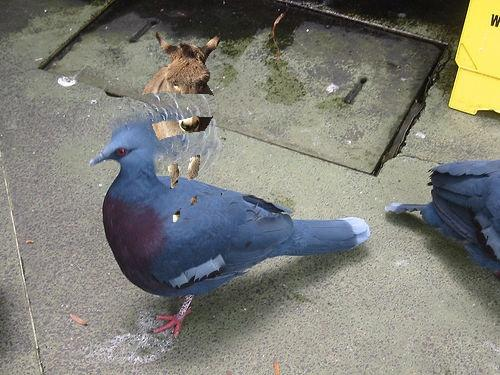tampered: (143, 33, 220, 222)
